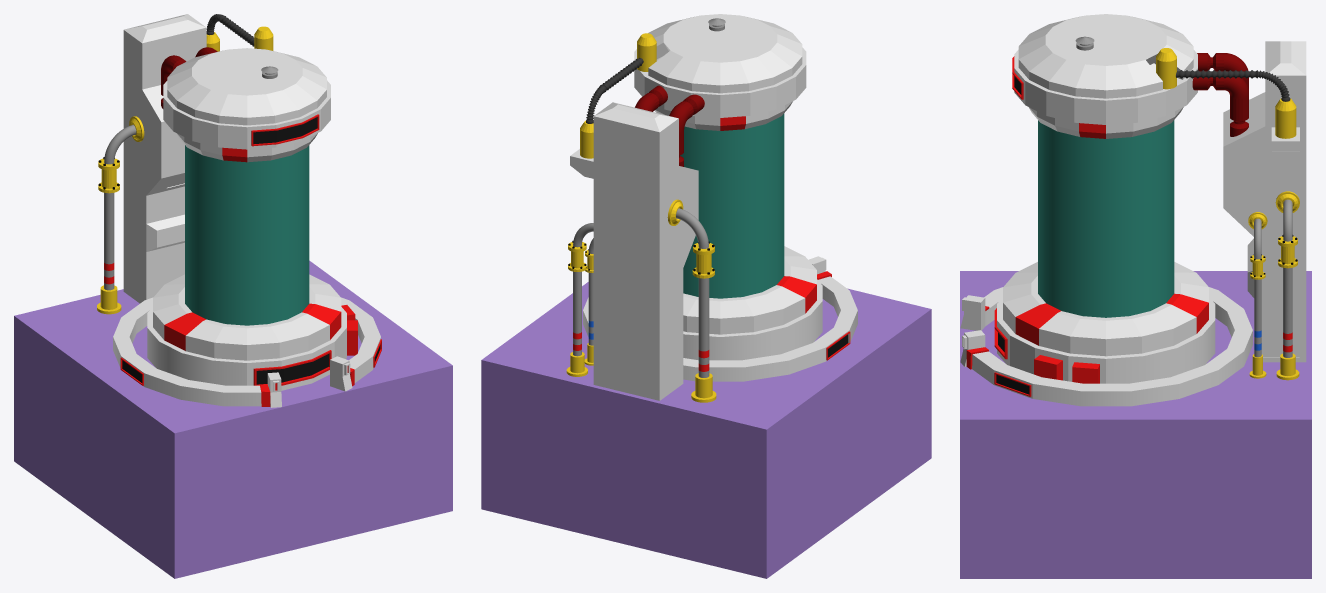
The model's file is Vat_low.fbx.
The picture shows the model from 3 angles, left to right: view 1: azimuth 30°, elevation 25°; view 2: azimuth 150°, elevation 25°; view 3: azimuth 270°, elevation 25°; orthographic projection. The views are drawn at different scales.
Parts seen in each view (by area): view 1: Floor_low (×4), Tank_low, VatTop_low, Back_low, BottomVat_low, Boarder_low, LeftPipeBig002_low, LeftPipeMiddle002_low; view 2: Floor_low (×3), Back_low, Tank_low, VatTop_low, BottomVat_low, Boarder_low, LeftPipeBig002_low, PipeBig002_low, Tank002_low, LeftPipeMiddle002_low; view 3: Floor_low (×4), Tank_low, VatTop_low, BottomVat_low, Back_low, Boarder_low, PipeBig002_low, Tank001_low, Tank002_low, BigPipeBottom001_low, Hose002_low, PipeSmal002_low (+2 smaller).
Part boxes in pixels (box(x1,y1,x2,y2)): Floor_low (×4): box(14, 260, 452, 578); Tank_low: box(185, 145, 309, 325); VatTop_low: box(163, 48, 330, 162); Back_low: box(123, 14, 206, 303); BottomVat_low: box(147, 274, 357, 390); Boarder_low: box(113, 297, 381, 407); LeftPipeBig002_low: box(104, 192, 114, 290); LeftPipeMiddle002_low: box(98, 158, 119, 193); Floor_low (×3): box(481, 288, 931, 578); Back_low: box(570, 102, 698, 400); Tank_low: box(680, 113, 784, 298); VatTop_low: box(634, 14, 806, 130); BottomVat_low: box(683, 246, 822, 360); Boarder_low: box(583, 256, 857, 381); LeftPipeBig002_low: box(698, 278, 709, 377); PipeBig002_low: box(573, 271, 581, 356); Tank002_low: box(637, 33, 656, 71); LeftPipeMiddle002_low: box(692, 243, 714, 278); Floor_low (×4): box(960, 271, 1311, 578); Tank_low: box(1038, 120, 1174, 317); VatTop_low: box(1012, 14, 1197, 138); BottomVat_low: box(994, 262, 1215, 383); Back_low: box(1223, 41, 1306, 362); Boarder_low: box(960, 287, 1252, 406); PipeBig002_low: box(1283, 267, 1292, 357); Tank001_low: box(1275, 98, 1296, 138); Tank002_low: box(1156, 48, 1176, 89); BigPipeBottom001_low: box(1230, 96, 1248, 136); Hose002_low: box(1176, 70, 1257, 78); PipeSmal002_low: box(1254, 279, 1261, 357).
Size of the model in its own units: 79 by 118 by 79.
